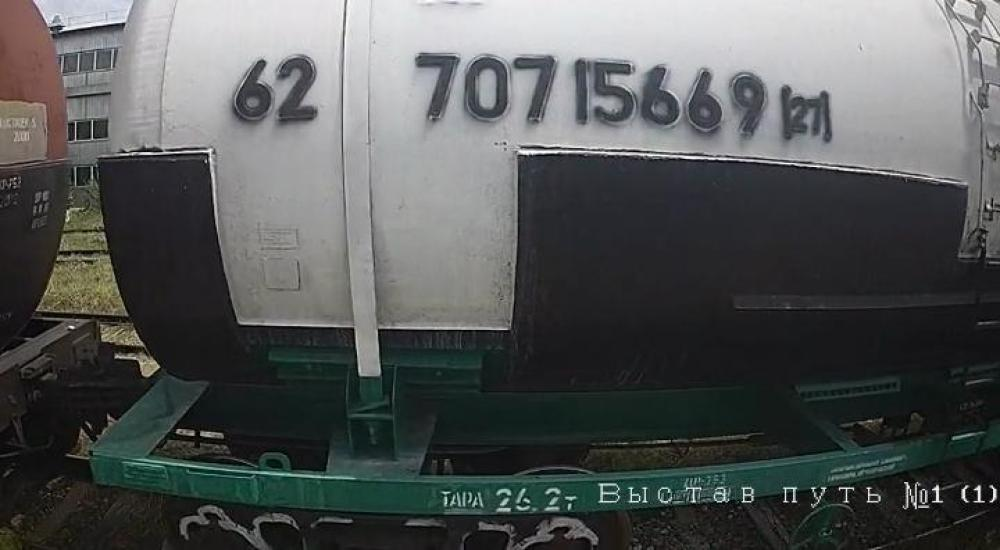Wagon-number: (411, 46, 770, 143)
